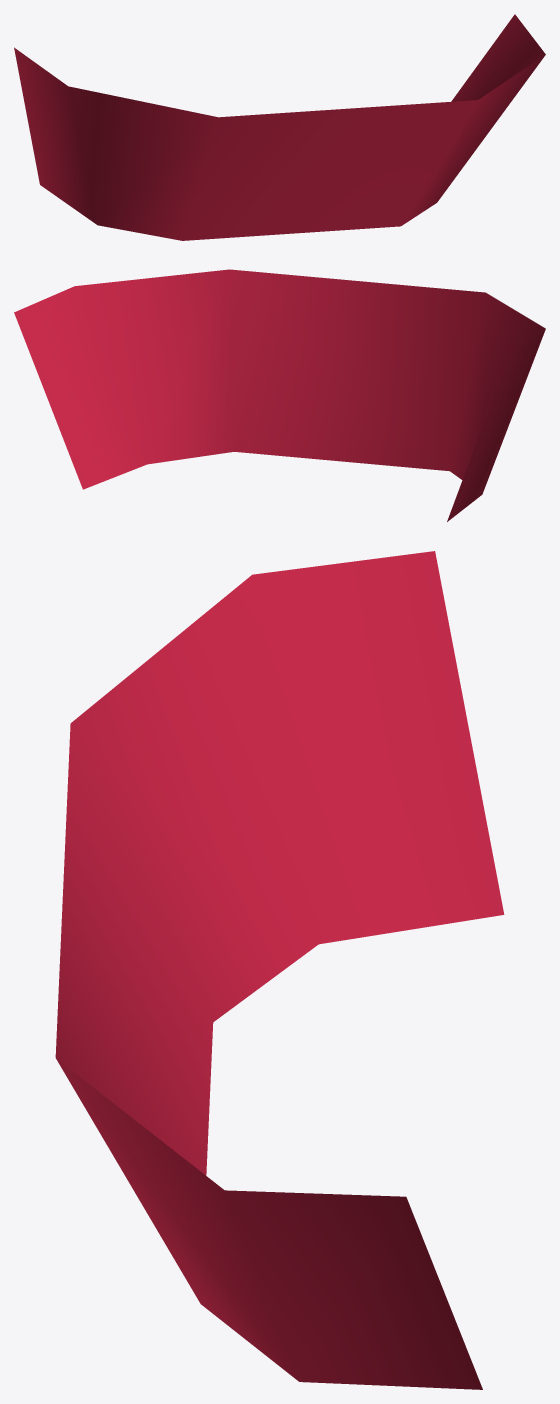
3 renders of one model, top to bottom at view 1: azimuth 30°, elevation 25°; view 2: azimuth 150°, elevation 25°; view 3: azimuth 270°, elevation 25°, orthographic. The views are drawn at different scales.
Parts seen in each view (by area): view 1: ef_476; view 2: ef_476; view 3: ef_476.
Boxes of the visible parts, left/top/right/bottom form: ef_476: left=14, top=14, right=545, bottom=240; ef_476: left=14, top=269, right=545, bottom=521; ef_476: left=55, top=551, right=504, bottom=1389.
Bounding box in the file's own units: 0.6643 × 0.29 × 0.2614.
1 material, 1 textured.
